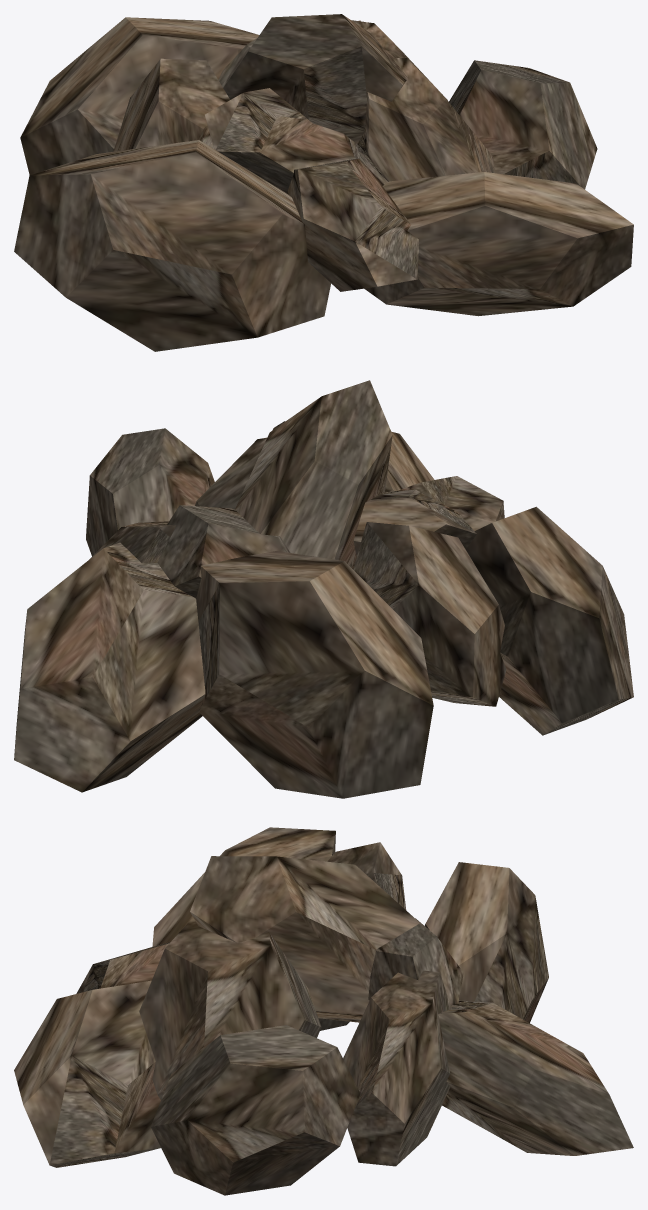
File: stone.glb
3 renders of one model, top to bottom at view 1: azimuth 30°, elevation 25°; view 2: azimuth 150°, elevation 25°; view 3: azimuth 270°, elevation 25°, orthographic. The views are drawn at different scales.
Visible parts, largest first — view 1: part_0; view 2: part_0; view 3: part_0.
Part boxes in pixels (x1,y1,x2,y2): part_0: (14, 14, 633, 351); part_0: (14, 380, 633, 798); part_0: (14, 827, 633, 1195).
Bounding box in the file's own units: 0.8284 × 0.4193 × 0.8488.
1 material, 1 textured.
